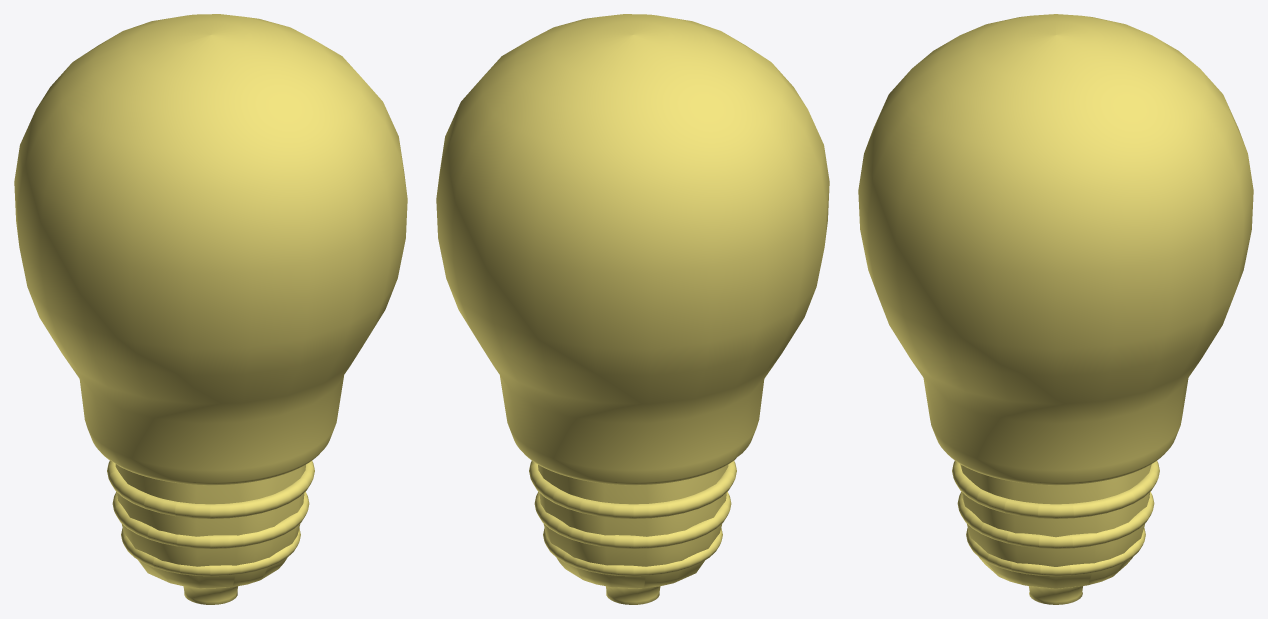
File: lightBulb_50.fbx
3 renders of one model, left to right at view 1: azimuth 30°, elevation 25°; view 2: azimuth 150°, elevation 25°; view 3: azimuth 270°, elevation 25°, orthographic.
Parts seen in each view (by area): view 1: lightBulb_50; view 2: lightBulb_50; view 3: lightBulb_50.
Part boxes in pixels (box(x1,y1,x2,y2)): lightBulb_50: box(14, 14, 407, 604); lightBulb_50: box(436, 14, 829, 604); lightBulb_50: box(858, 14, 1253, 604).
Bounding box in the file's own units: 35.69 × 55.64 × 35.69.
